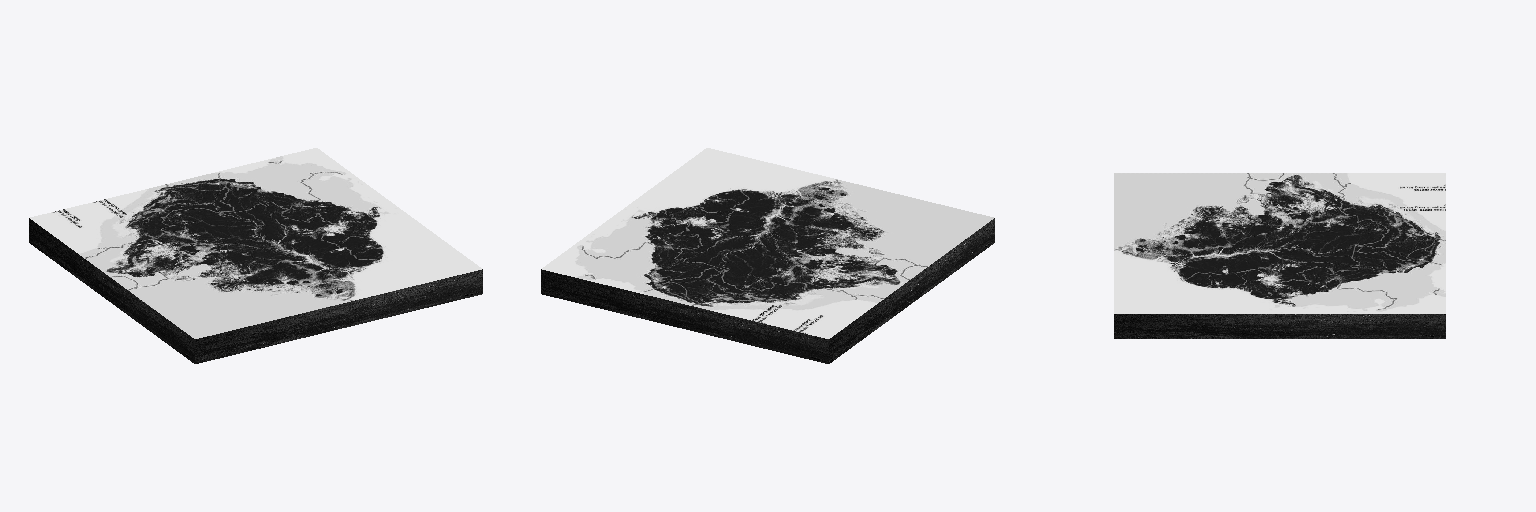
3 views of the same model, side by side, from view 1: azimuth 30°, elevation 25°; view 2: azimuth 150°, elevation 25°; view 3: azimuth 270°, elevation 25° (orthographic).
Visible parts, largest first — view 1: object_2, object_6, object_5; view 2: object_2, object_4, object_5; view 3: object_2, object_3.
Boxes of the visible parts, <box> form: object_2: <box>30,148,481,338</box>; object_6: <box>195,269,482,363</box>; object_5: <box>29,218,194,363</box>; object_2: <box>542,148,993,338</box>; object_4: <box>541,269,828,363</box>; object_5: <box>829,218,994,363</box>; object_2: <box>1114,173,1445,313</box>; object_3: <box>1114,314,1445,338</box>.
Size of the model in its own units: 1.82 by 0.1503 by 1.82.
Materials: 2 (2 with a texture image).